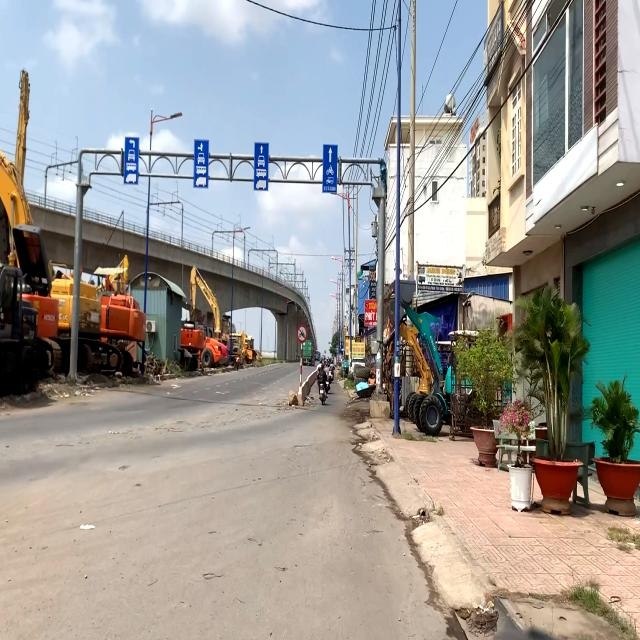bien_chi_dan: (296, 323, 308, 344)
